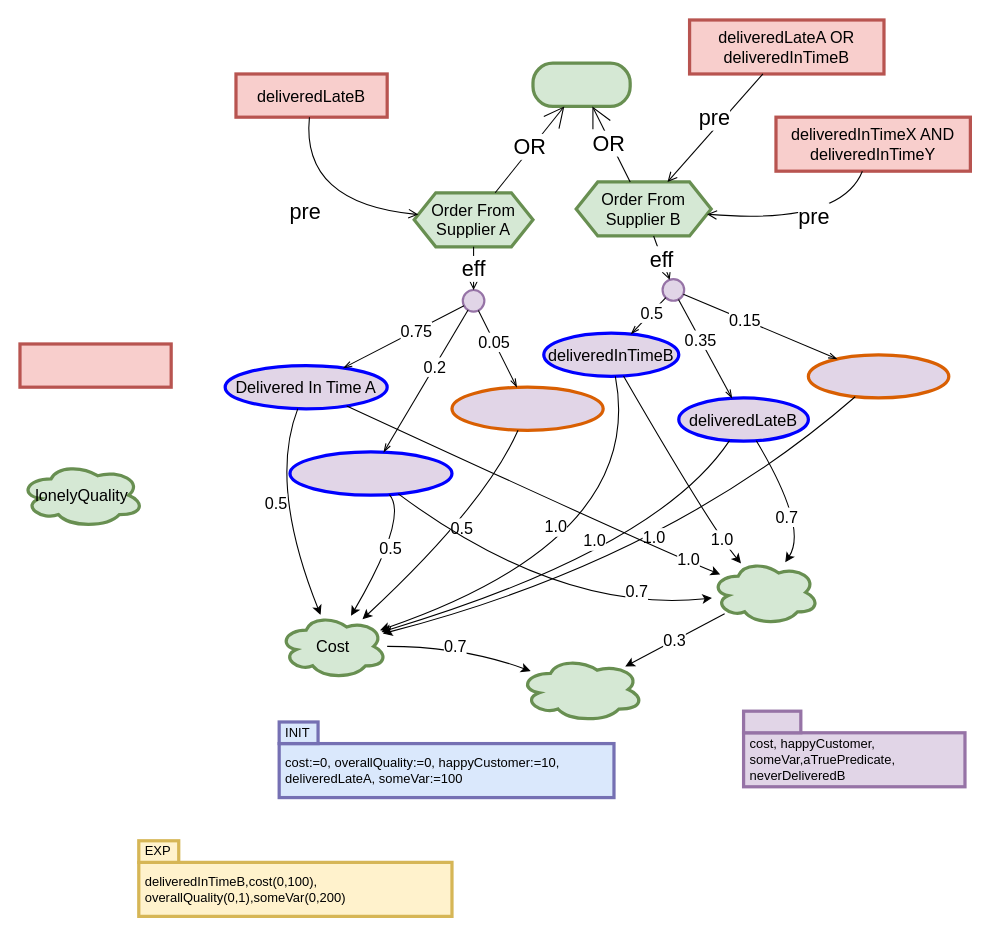
Image size: 990x936. Some labels were removed from this diagram. Each missing label, with the centre of its shape:
"CROSS" goes at (x=771, y=721).
"deliveredLateA" goes at (x=370, y=473).
"Happy Customer" goes at (x=764, y=592).
"lonely" goes at (x=95, y=365).
"neverDeliveredA" goes at (x=527, y=408).
"neverDeliveredB" goes at (x=878, y=376).
"Order Material" goes at (x=581, y=84).
"Overall Quality" goes at (x=581, y=689).
